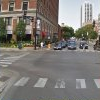crosswalk: (13, 76, 100, 88), (0, 51, 30, 66)
